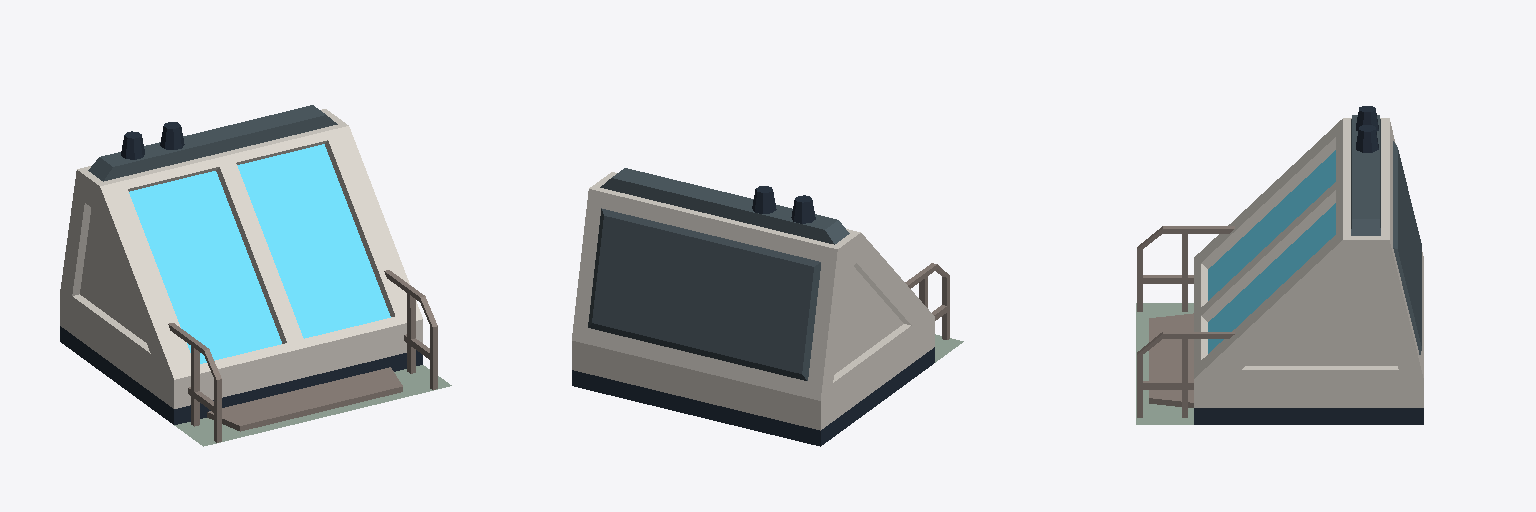
The picture shows the model from 3 angles: view 1: azimuth 30°, elevation 25°; view 2: azimuth 150°, elevation 25°; view 3: azimuth 270°, elevation 25°; orthographic projection.
Parts seen in each view (by area): view 1: Circle.001; view 2: Circle.001; view 3: Circle.001.
Boxes of the visible parts, box(x1,y1,x2,y2) form: Circle.001: box(60, 105, 451, 446); Circle.001: box(572, 168, 963, 446); Circle.001: box(1136, 106, 1423, 424).
Size of the model in its own units: 2 by 1.66 by 2.
Materials: 1 (1 with a texture image).